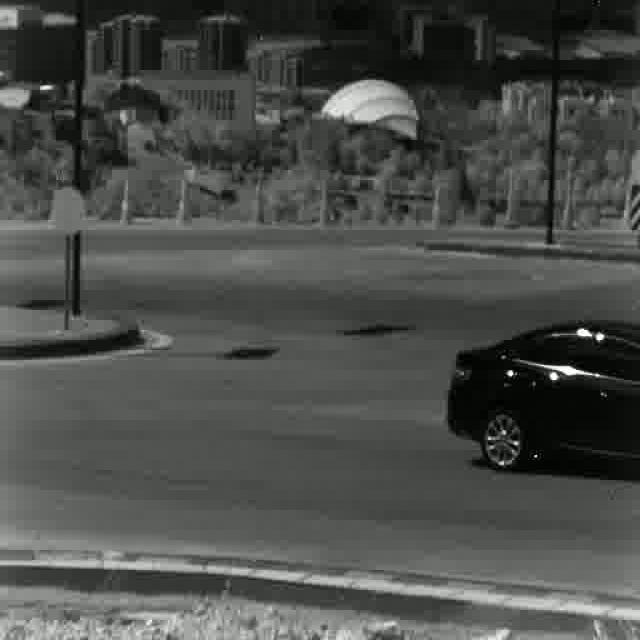Car: (440, 320, 640, 468)
